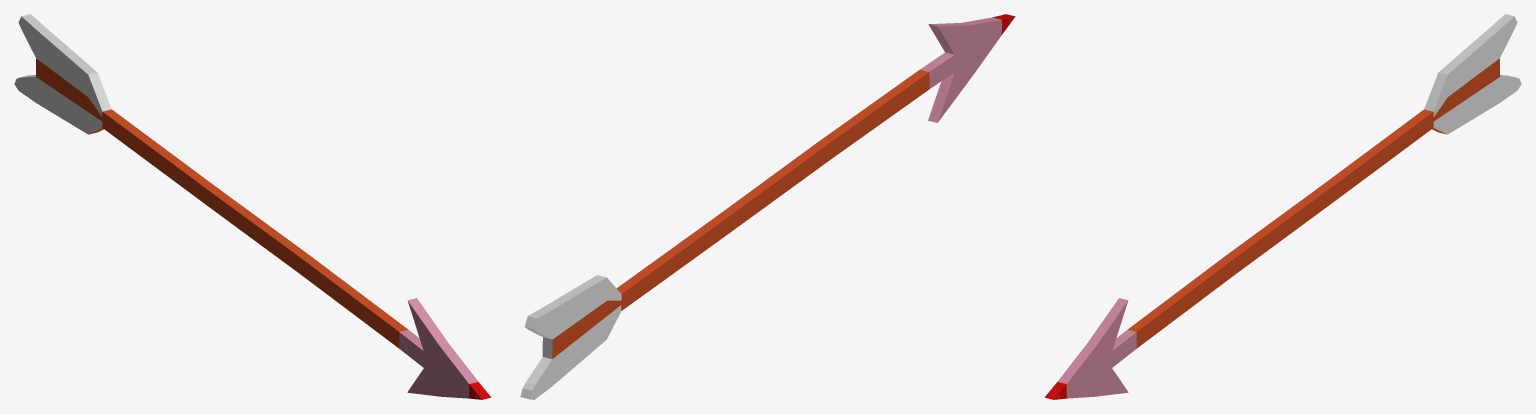
Rendered from arrow.fbx.
3 renders of one model, left to right at view 1: azimuth 30°, elevation 25°; view 2: azimuth 150°, elevation 25°; view 3: azimuth 330°, elevation 25°, orthographic. The views are drawn at different scales.
Visible parts, largest first — view 1: Plane; view 2: Plane; view 3: Plane.
Boxes of the visible parts, x1,y1,x2,y2 form: Plane: [14, 14, 491, 399]; Plane: [520, 14, 1015, 399]; Plane: [1044, 14, 1521, 399].
Bounding box in the file's own units: 11.34 × 109 × 981.
